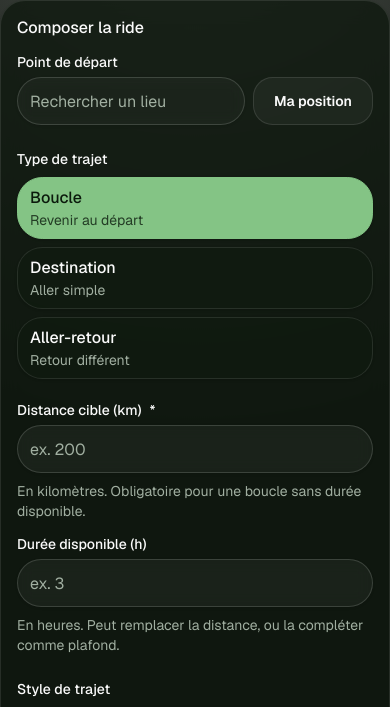
Test: RideRequestForm (FR-014) › shows the selected start address on the composition screen (FR-017)
In the dropdown labelled "Point de départ": (131, 101) [17,77,245,125], type "Granby, QC"
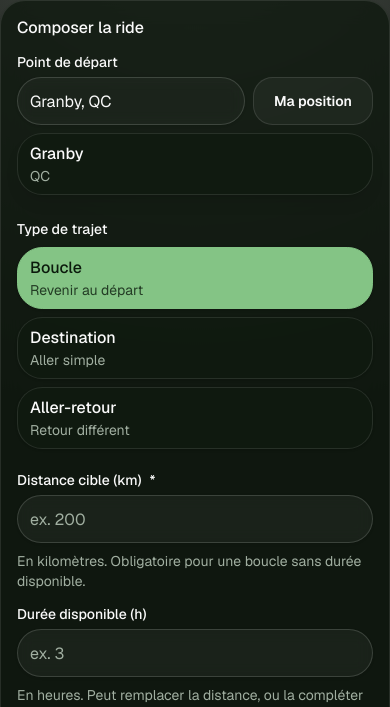
Click the option with aria-label "Granby, QC": (57, 154) [18,134,372,194]
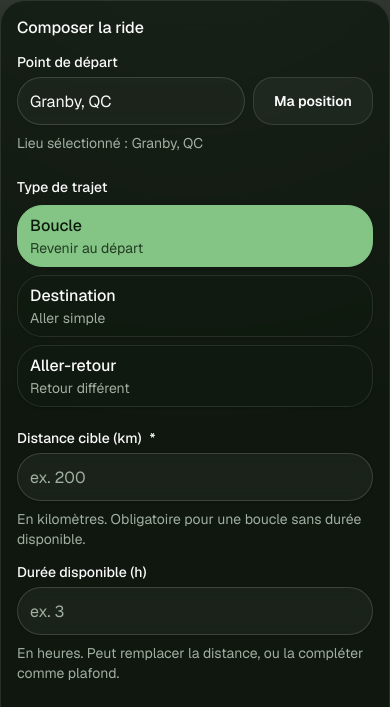
Check: the text "Lieu sélectionné : Granby, QC" is shown, box [17,134,203,152]
